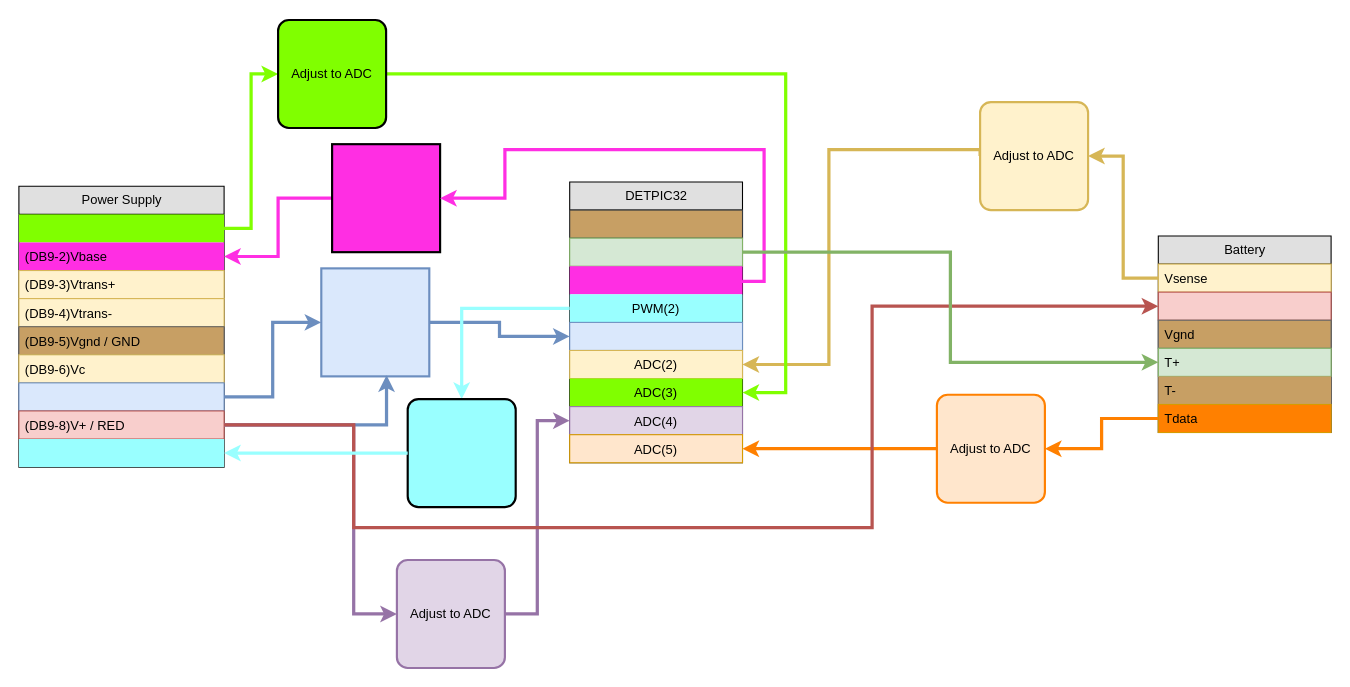
Some shapes in this 1350 by 687 pixel diagram are drawn without their labels. Each missing label, with the centre of its shape:
(DB9-1)Tdata: (121,228)
(DB9-7)Ve / BLUE: (121,396)
(DB9-9)Vfan: (121,452)
3.3V: (655,251)
ADC(1): (655,335)
Adjust to transistor base: (385,198)
Current Sense Adjust to ADC: (375,322)
Dynamic Switch: (461,452)
GND: (655,223)
PWM(1): (655,280)
Vin: (1244,305)
